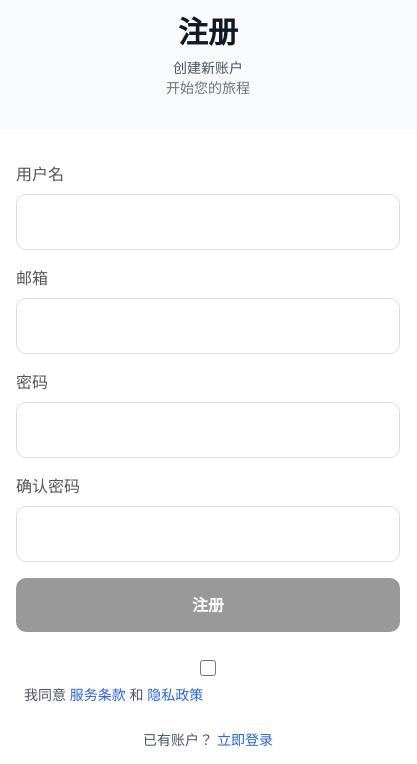
Scenario: RegisterPage › Terms and Conditions › should enable register button when terms accepted
Step 1. Click the checkbox labelled "我同意 服务条款 和 隐私政策" → [208, 668], box [16,660,400,676]
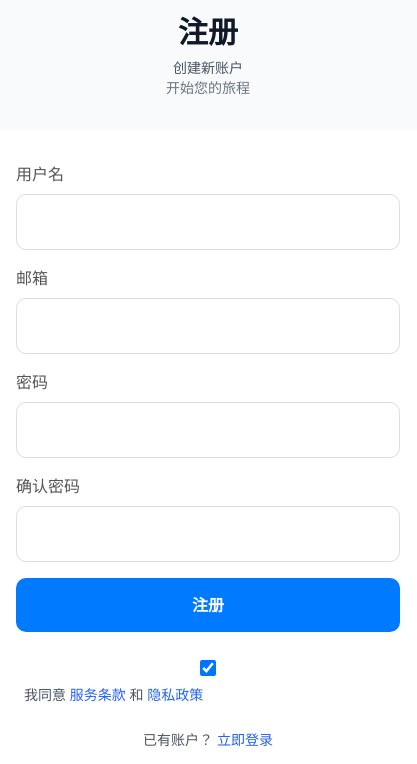
Expected: the checkbox labelled "我同意 服务条款 和 隐私政策" is checked, [16,660,400,676]
Expected: the button "注册" is enabled, [16,578,400,632]
